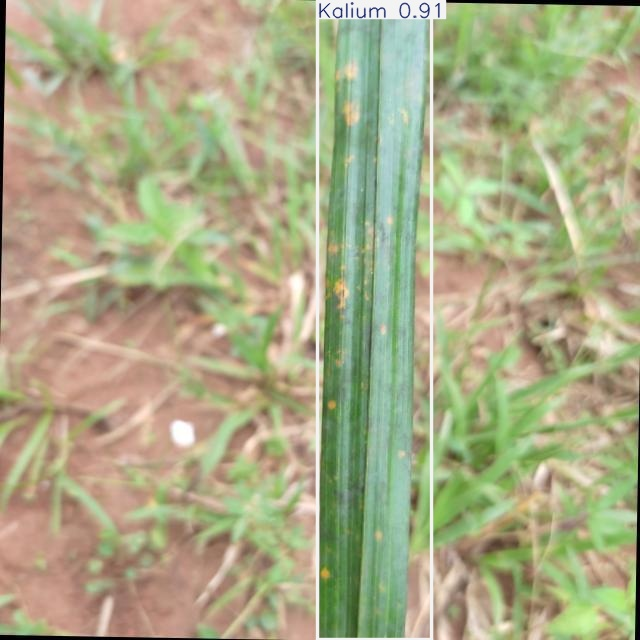Kalium: (318, 0, 431, 640)
